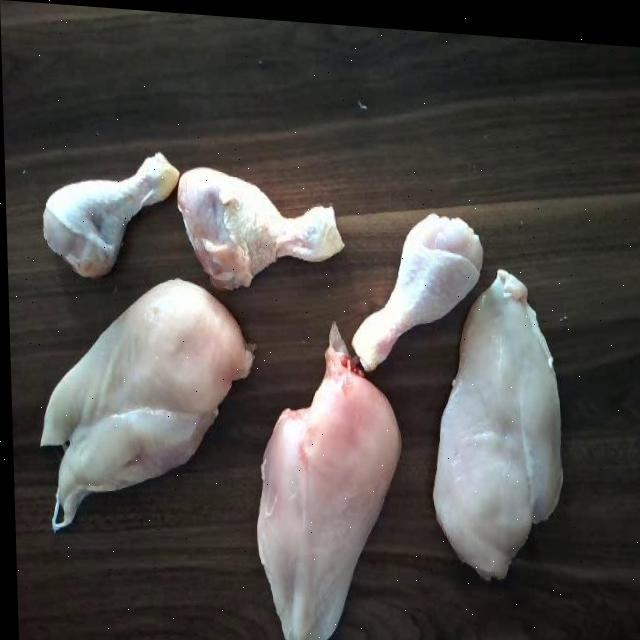breast: (32, 264, 252, 522), (239, 328, 407, 640), (426, 256, 560, 570)
leg: (167, 151, 346, 302), (343, 187, 481, 368), (46, 142, 182, 284)
